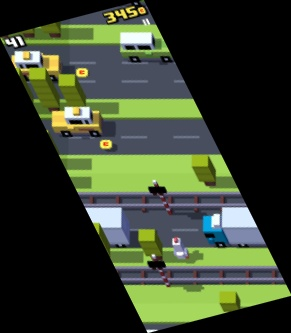car: (119, 32, 177, 65), (8, 50, 64, 81), (51, 108, 103, 138)
coin: (75, 66, 90, 80), (99, 139, 113, 151)
duck: (169, 237, 191, 262)
light off: (147, 179, 176, 215), (146, 255, 173, 289)
rail: (74, 191, 250, 213), (109, 265, 291, 286)
tree: (29, 68, 64, 114), (1, 67, 37, 107), (81, 221, 113, 263), (58, 75, 89, 110), (38, 2, 63, 41), (137, 229, 165, 263), (191, 153, 217, 187), (14, 2, 36, 39), (218, 290, 243, 317)
truck: (201, 209, 282, 246), (65, 207, 133, 249)
